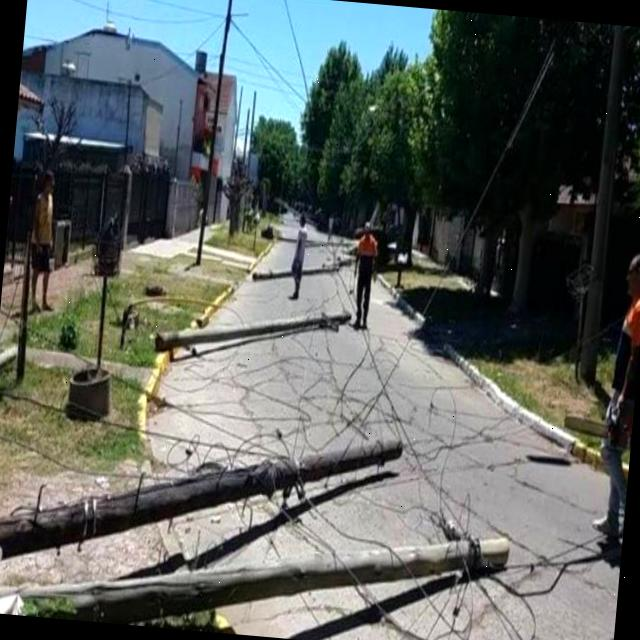Broken Pole: (0, 396, 406, 598), (0, 480, 512, 640), (151, 292, 354, 372), (250, 258, 344, 292)
